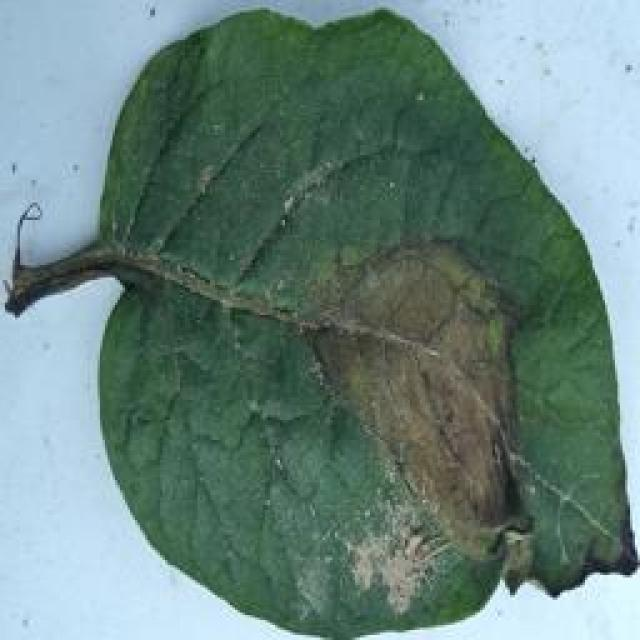Potato_Late_Blight: (7, 6, 624, 631)
